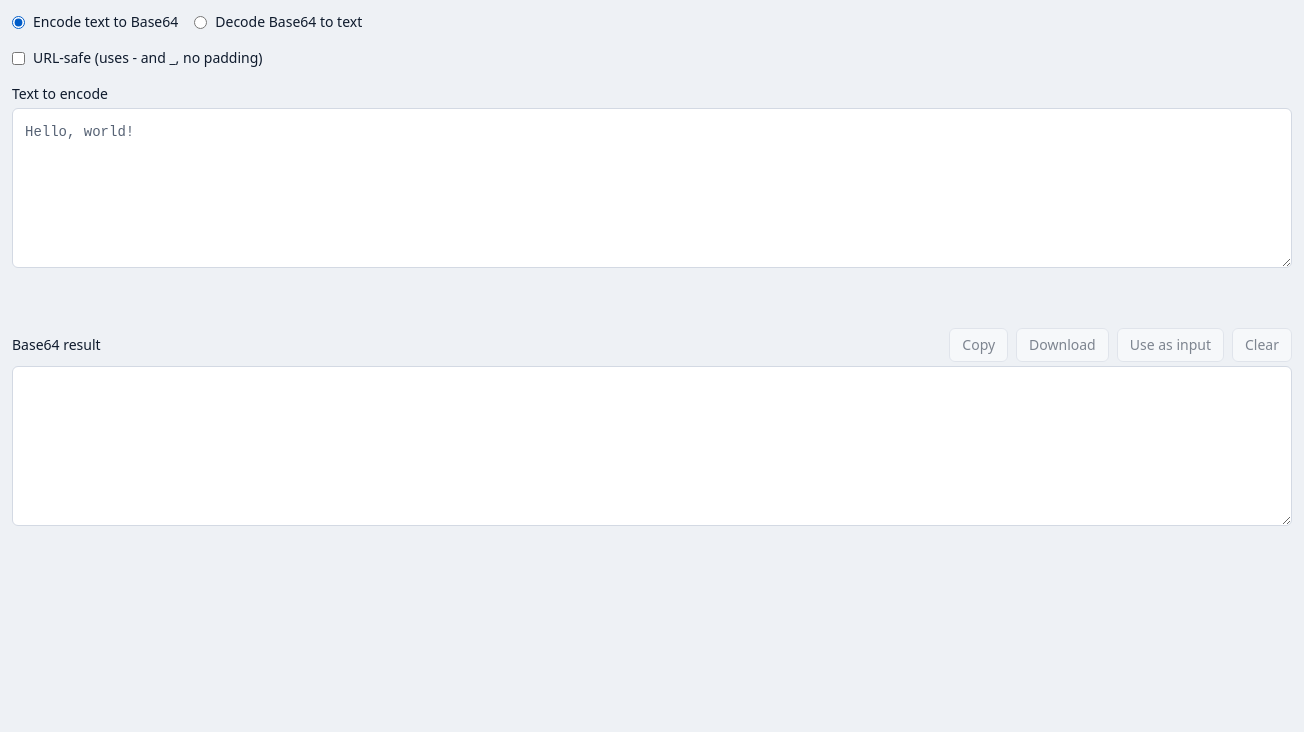
Test: Base64 tool › shows an error for invalid Base64 and none when empty
The image size is (1304, 732).
Click the radio button labelled "Decode Base64 to text": x=201, y=22 [194, 16, 207, 28]
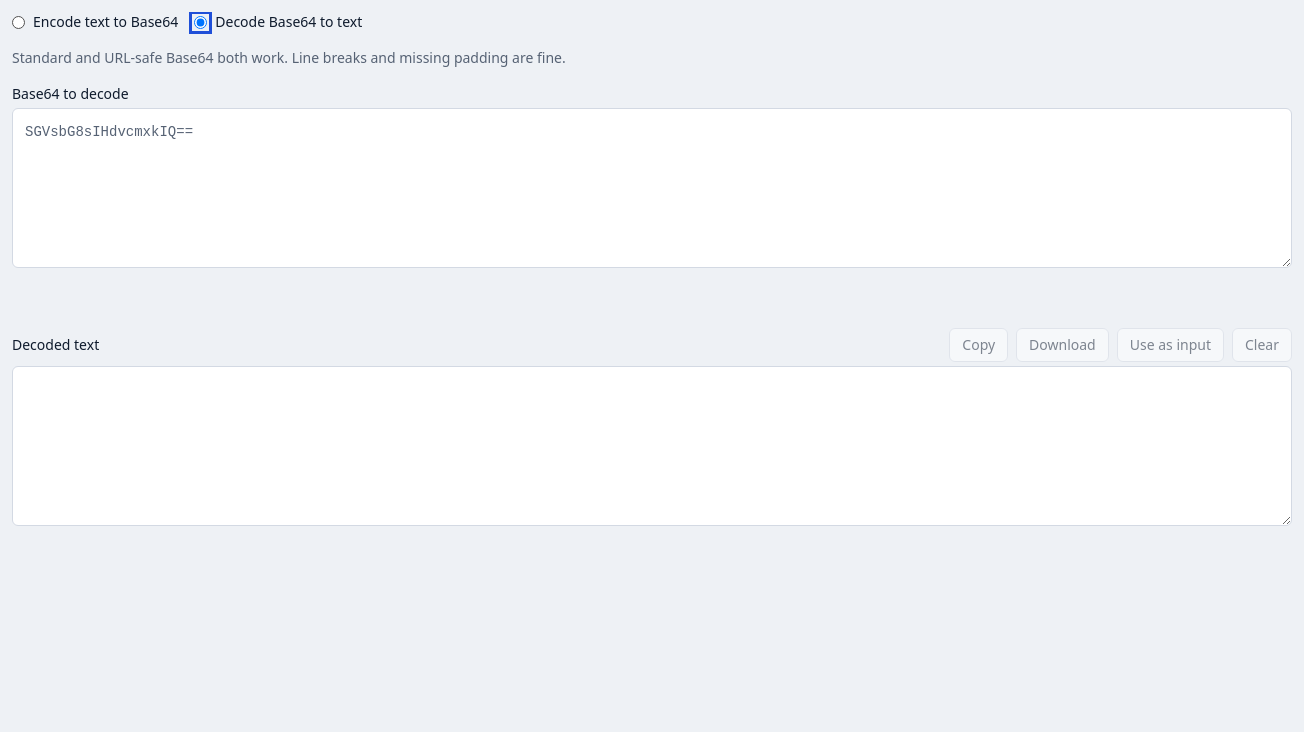
Click the text box labelled "Base64 to decode": x=652, y=188 [12, 108, 1292, 268]
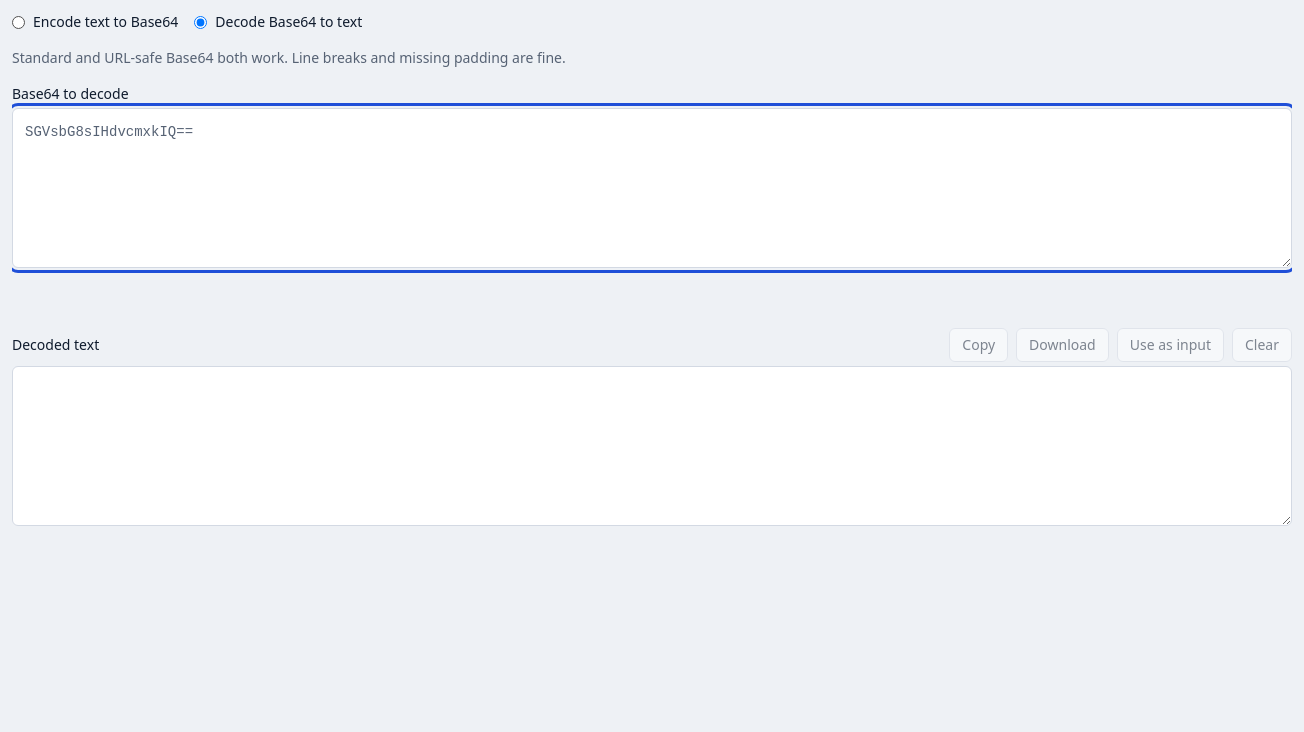
Type keys "not base64!!"
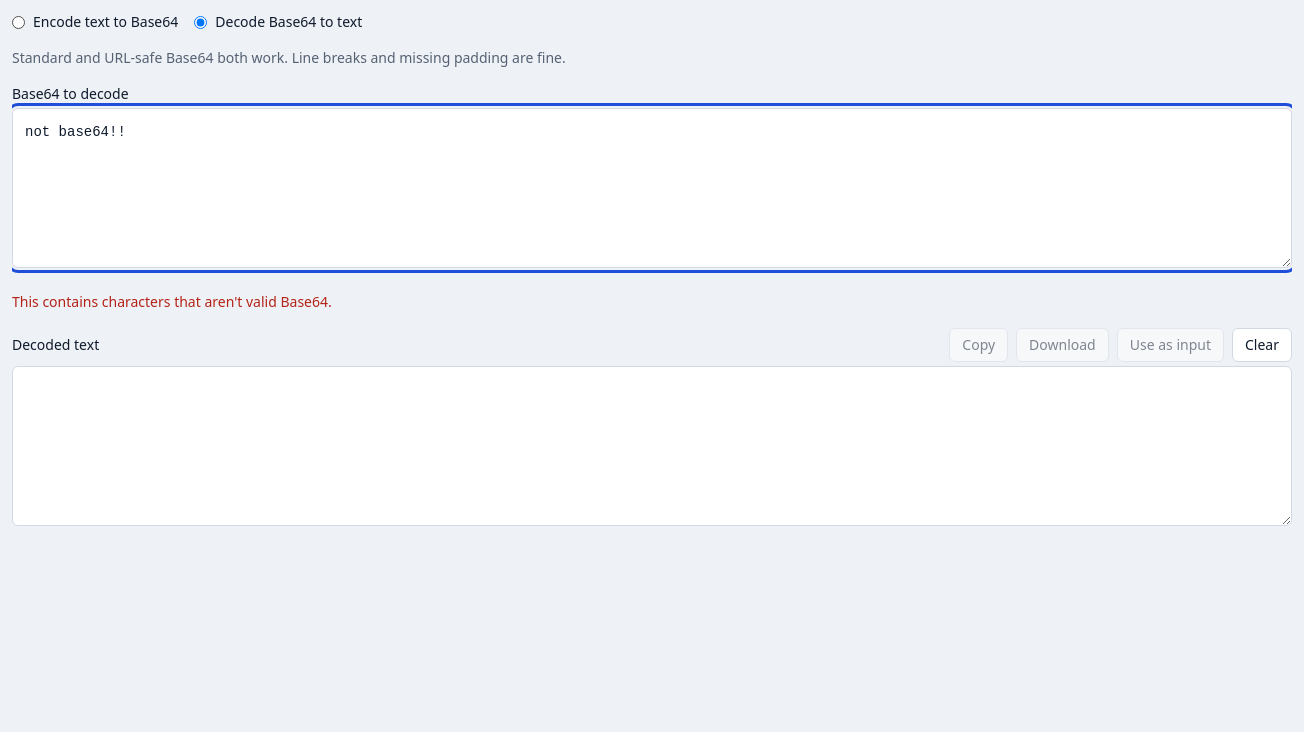
Check: the message shows "aren't valid Base64", box [12, 292, 332, 311]
